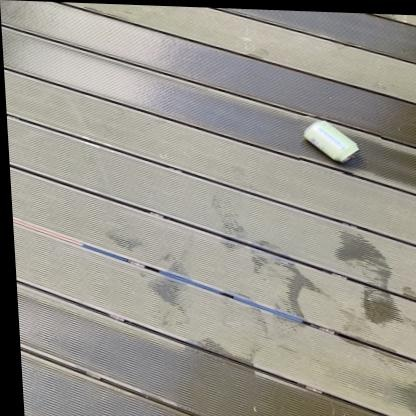trash: (304, 120, 358, 162)
